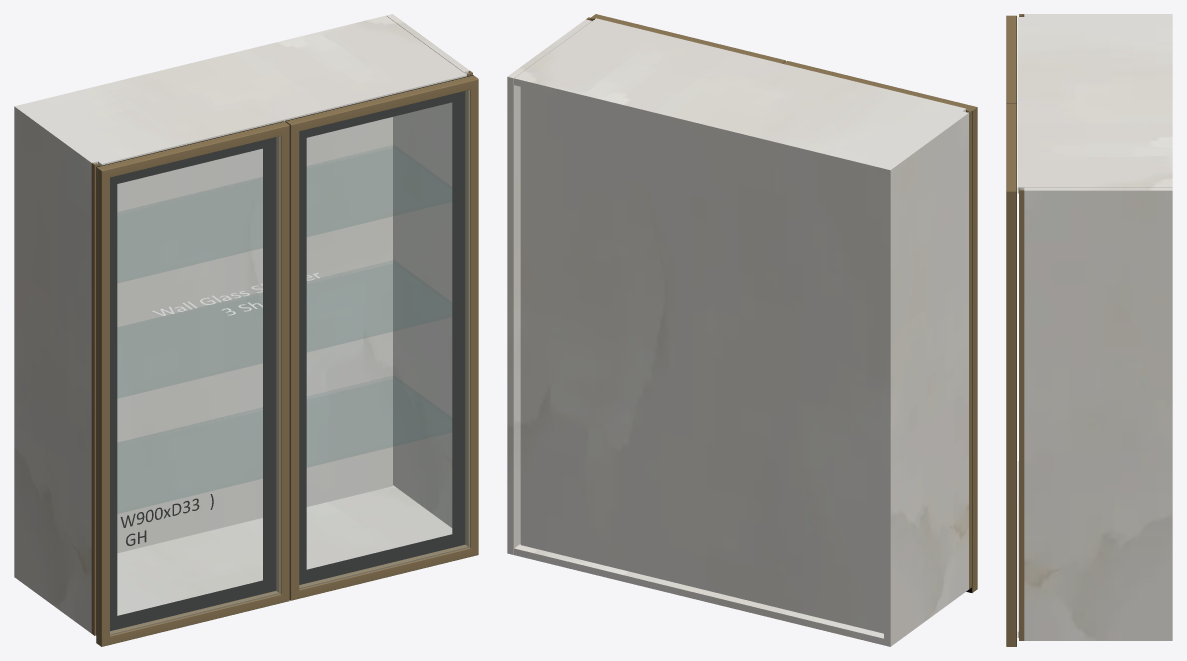
Rendered from WC3GS2GHS (H1085xW900xD336).glb.
The picture shows the model from 3 angles, left to right: view 1: azimuth 30°, elevation 25°; view 2: azimuth 150°, elevation 25°; view 3: azimuth 270°, elevation 25°; orthographic projection. The views are drawn at different scales.
Size of what is drawn, in the model's own units: 0.9 by 1.09 by 0.358.
7 materials, 1 textured.
